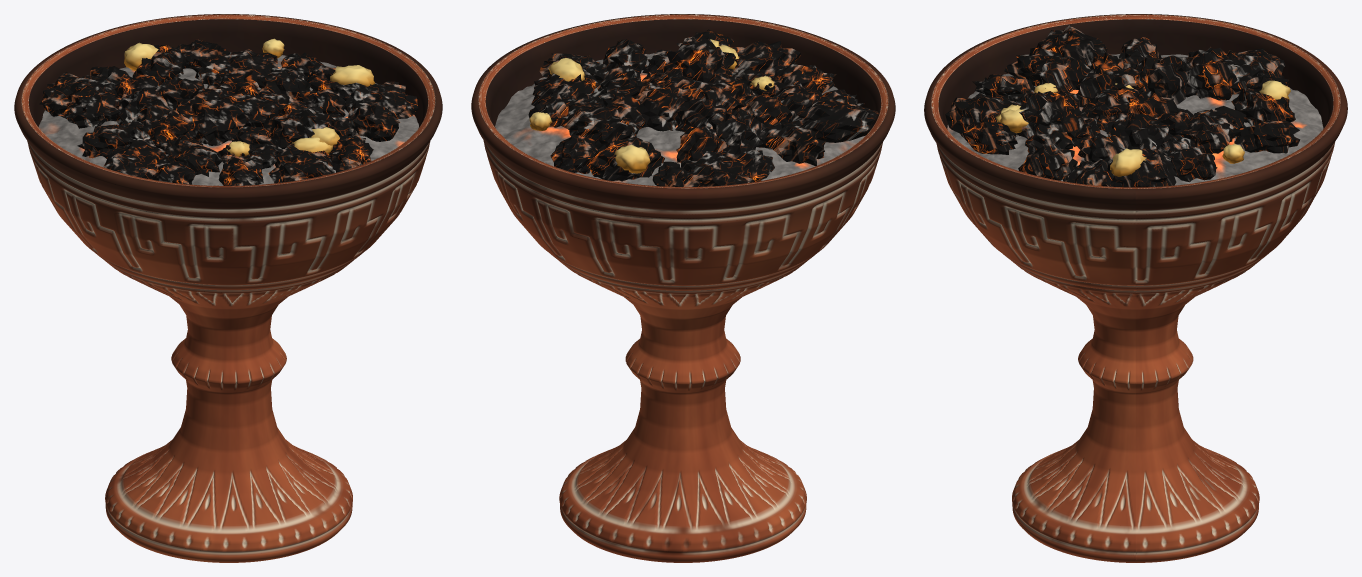
Rendered from sahumador.glb.
3 views of the same model, side by side, from view 1: azimuth 30°, elevation 25°; view 2: azimuth 150°, elevation 25°; view 3: azimuth 270°, elevation 25° (orthographic).
Visible parts, largest first — view 1: sahumador; view 2: sahumador; view 3: sahumador.
Part boxes in pixels (box(x1,y1,x2,y2)): sahumador: box(14, 14, 442, 562); sahumador: box(471, 14, 895, 562); sahumador: box(924, 14, 1347, 562).
Size of the model in its own units: 0.1207 by 0.1346 by 0.1198.
4 materials, 3 textured.
